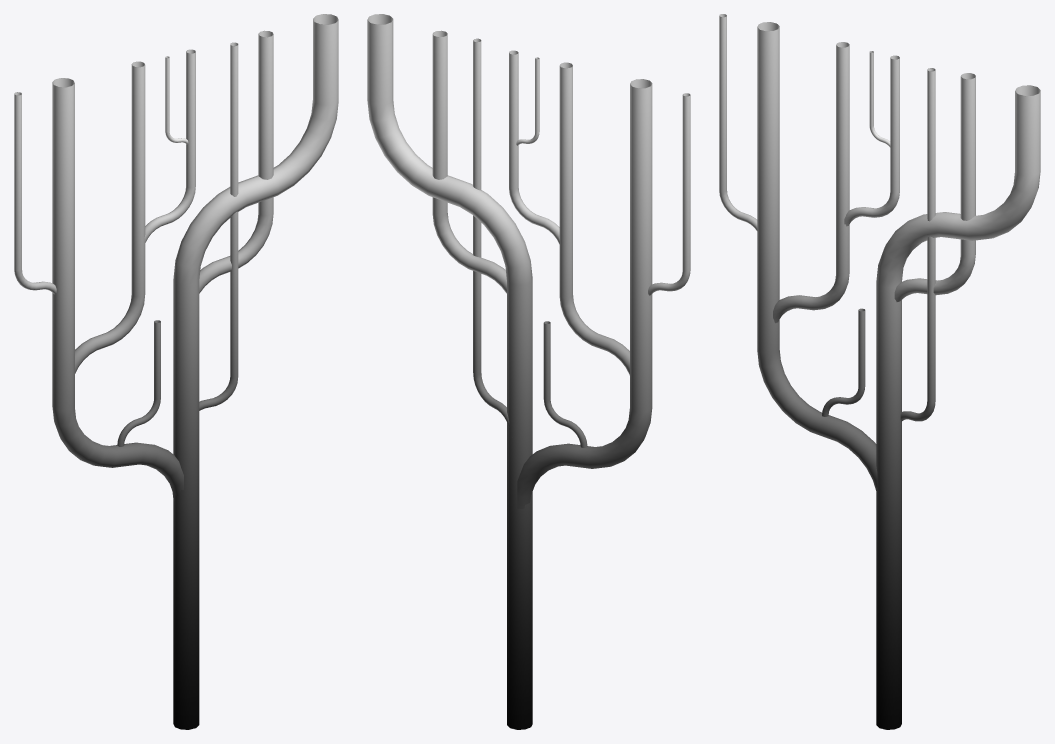
File: BG_Tree_V3.fbx
3 views of the same model, side by side, from view 1: azimuth 30°, elevation 25°; view 2: azimuth 150°, elevation 25°; view 3: azimuth 330°, elevation 25° (orthographic).
Parts seen in each view (by area): view 1: BG_Tree_V3; view 2: BG_Tree_V3; view 3: BG_Tree_V3.
Part boxes in pixels (bbox=[...]): BG_Tree_V3: bbox=[14, 14, 338, 729]; BG_Tree_V3: bbox=[367, 14, 690, 729]; BG_Tree_V3: bbox=[719, 14, 1040, 729].
Bounding box in the file's own units: 524 × 1044 × 34.98.
